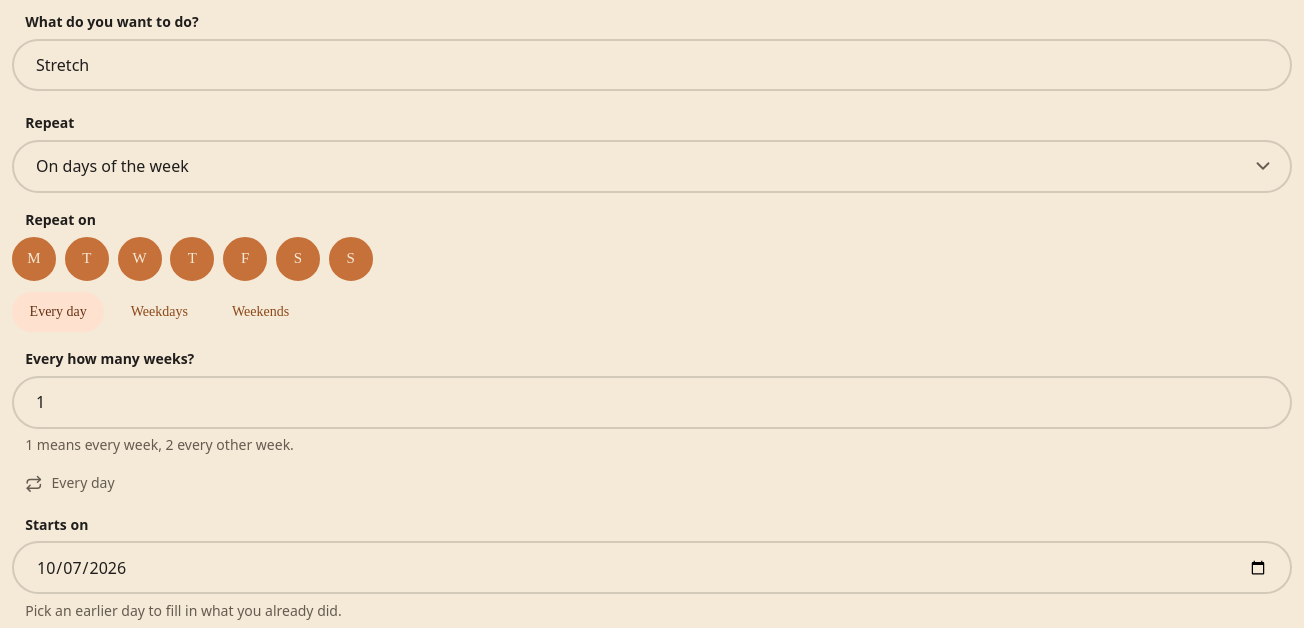
HabitForm: the repeat rule › follows the start date while the rhythm has no day of its own
The width and height of the screenshot is (1304, 628).
Select "Every few days" in the dropdown labelled "Repeat" at [652, 166], box [12,140,1292,193]
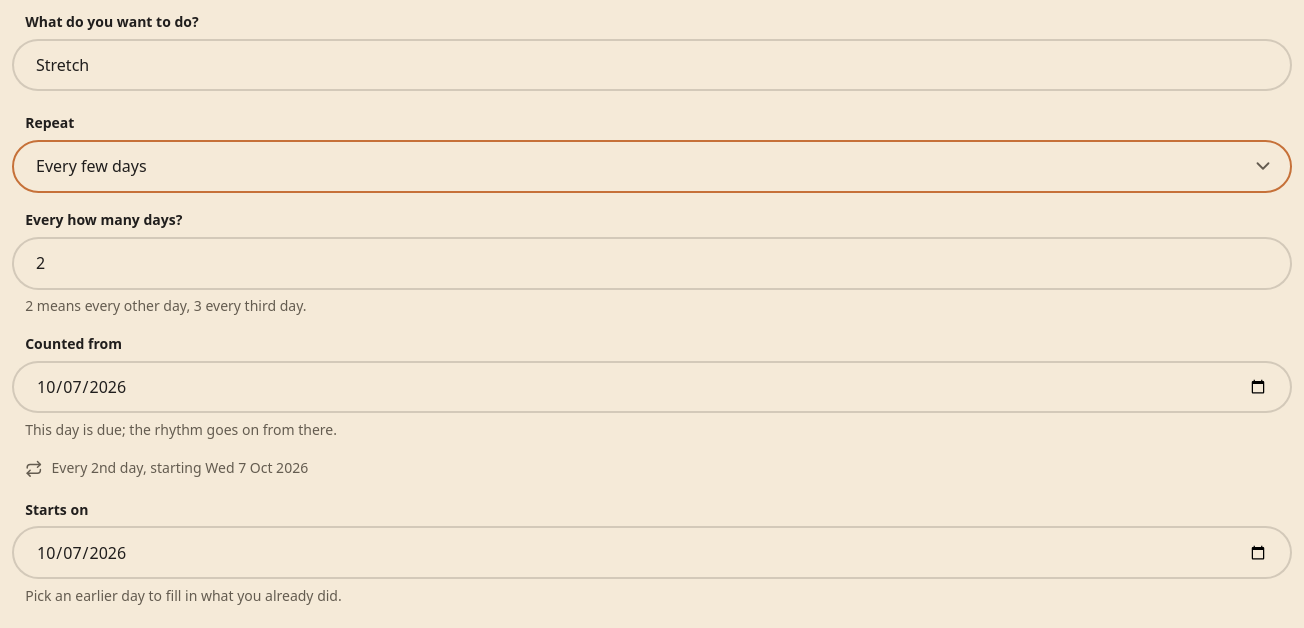
Type "2026-10-01" into the date field labelled "Starts on" at [652, 552], box [12,526,1292,579]
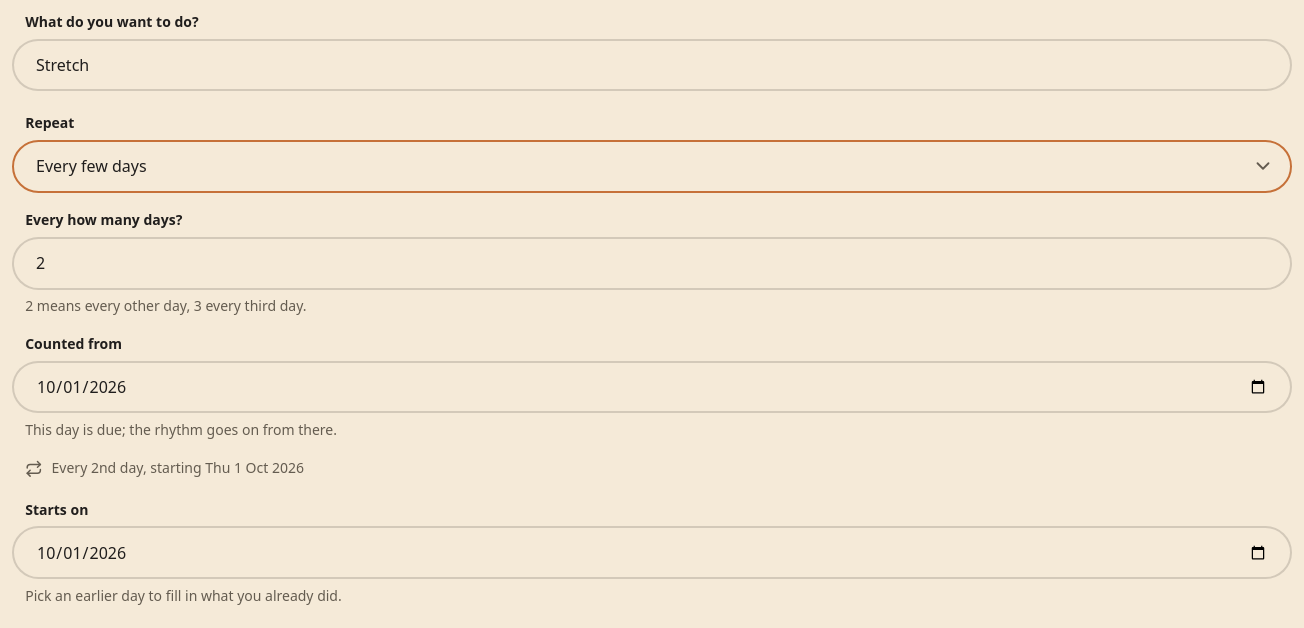
Check: the date field labelled "Counted from" holds "2026-10-01", box [12,360,1292,413]
